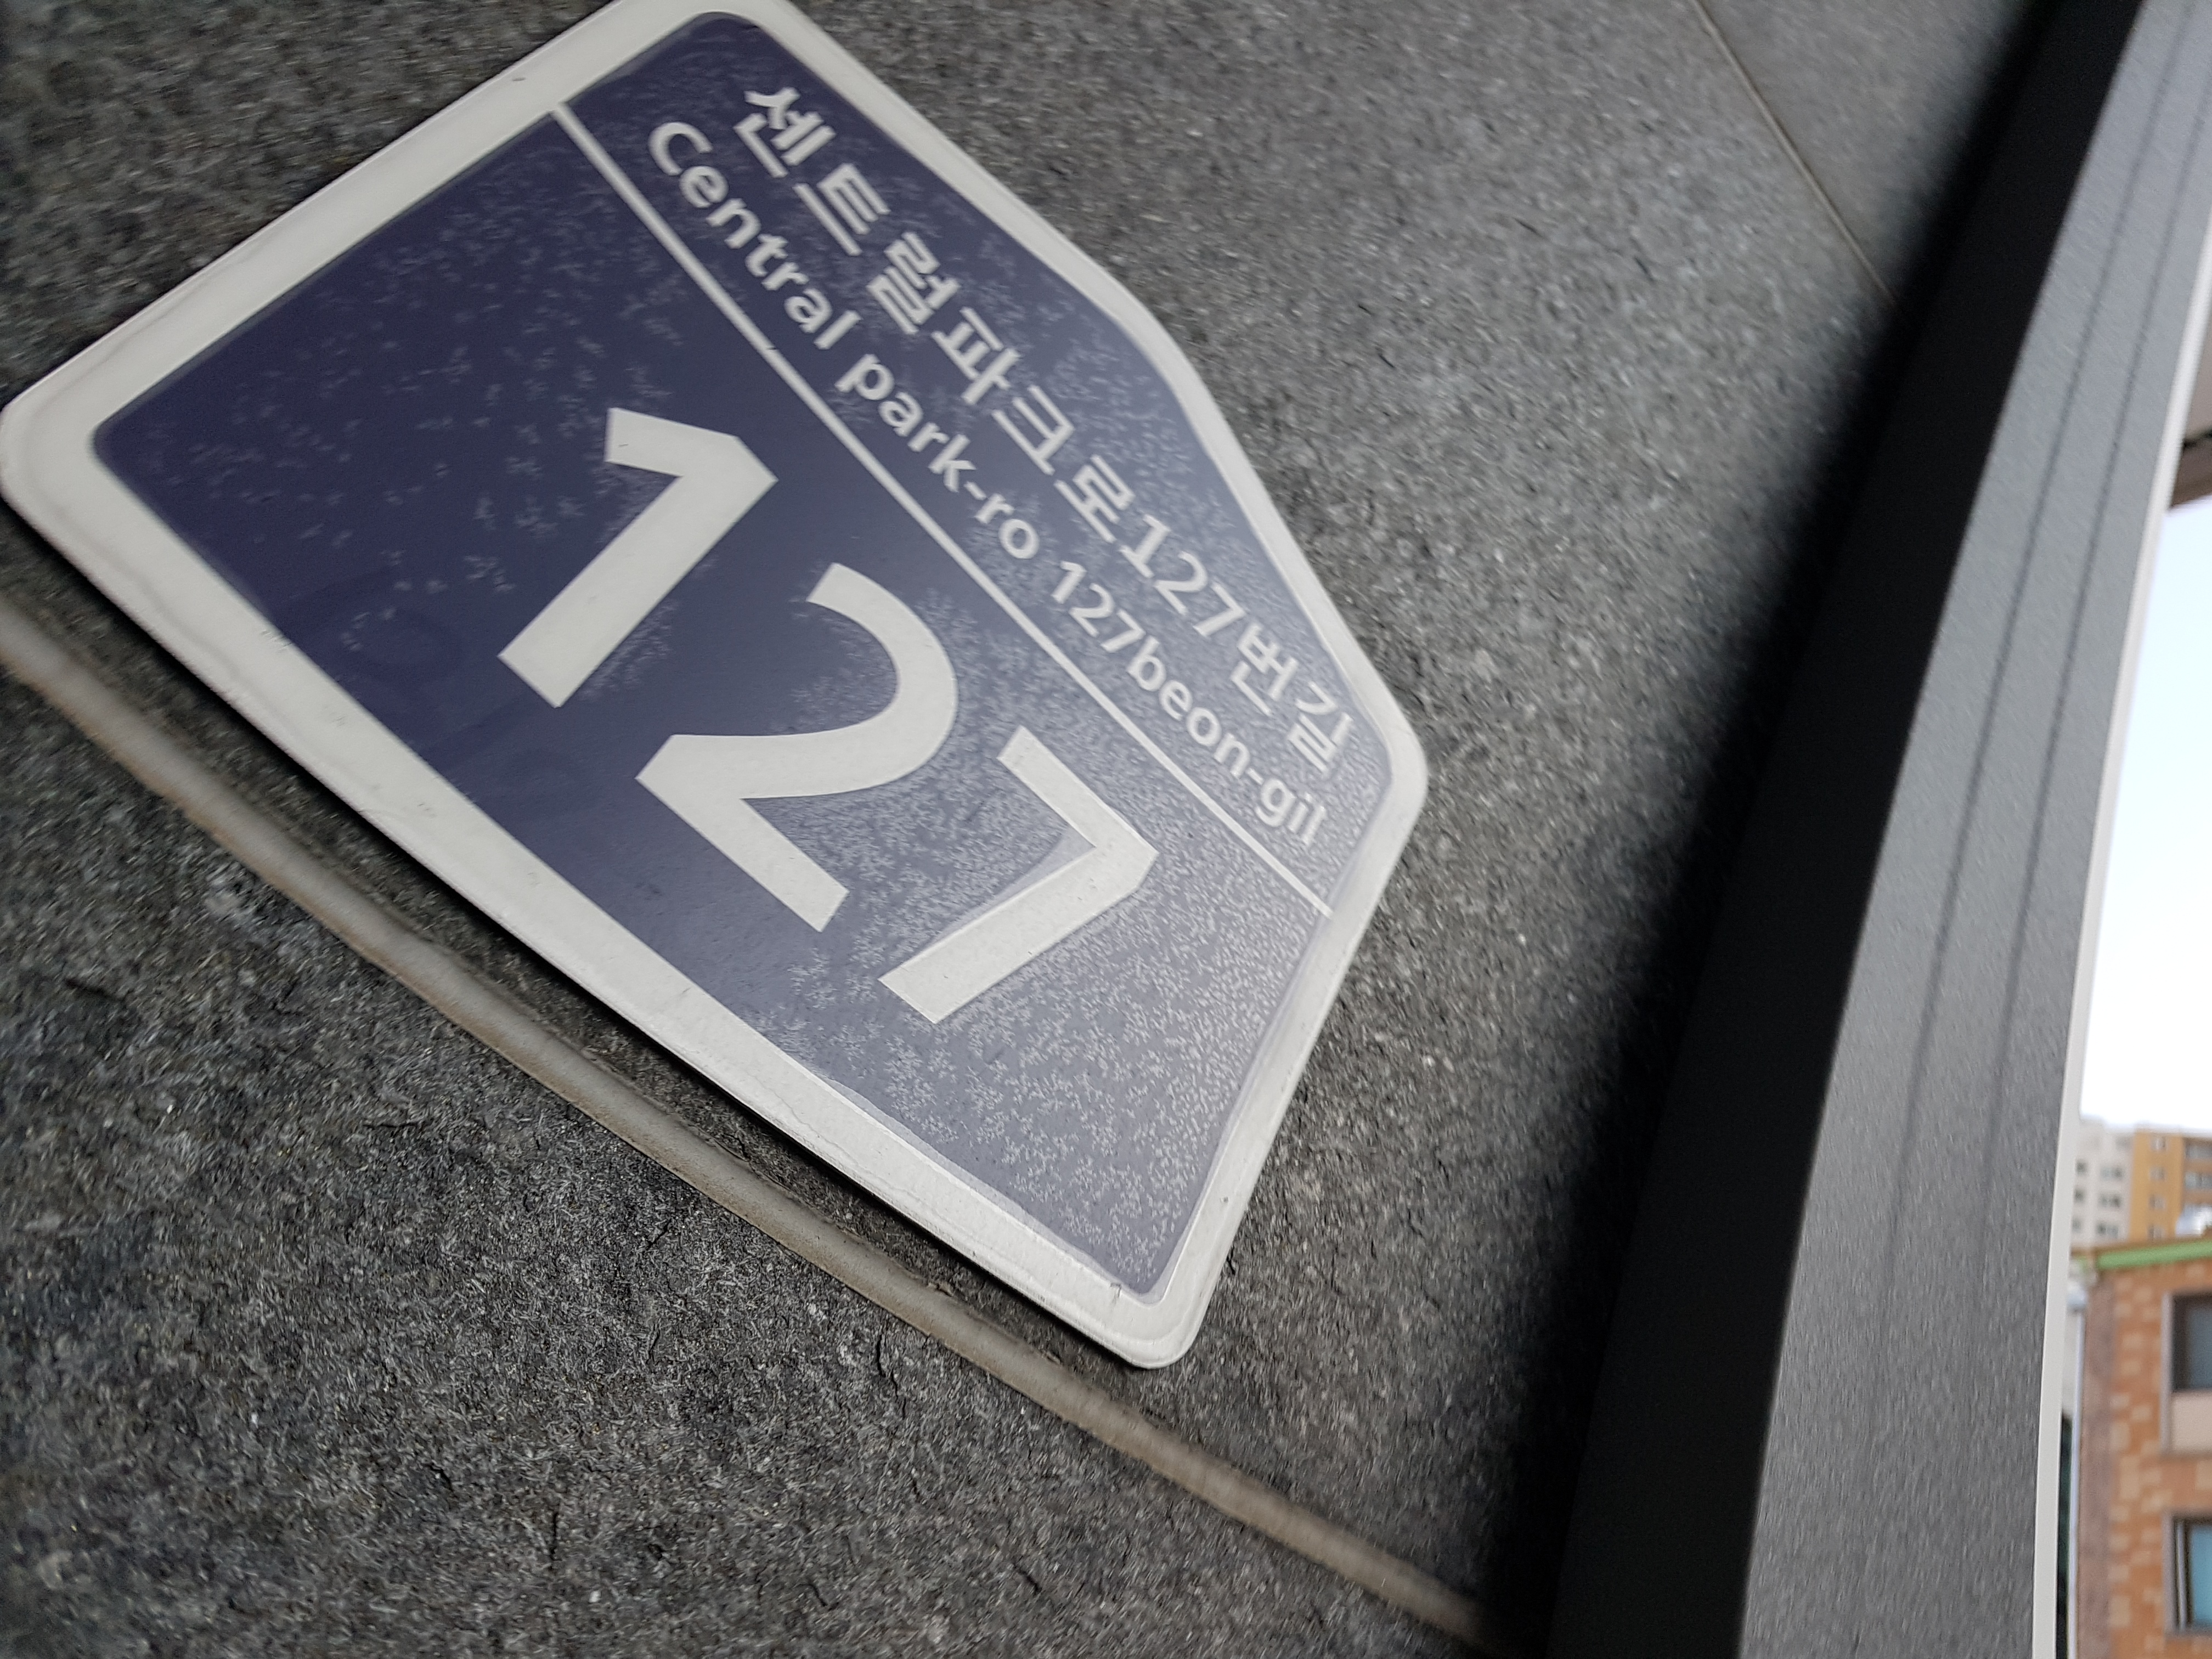building_license_plate1: (1, 1, 1430, 1371)
